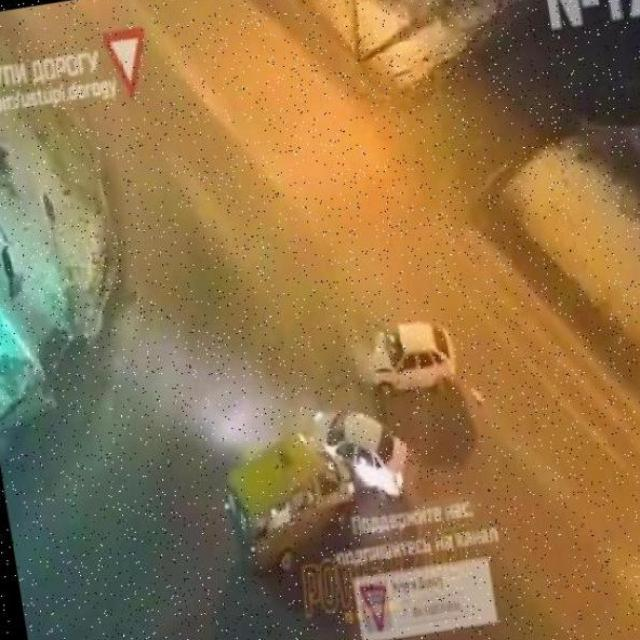accident: (184, 393, 432, 585)
